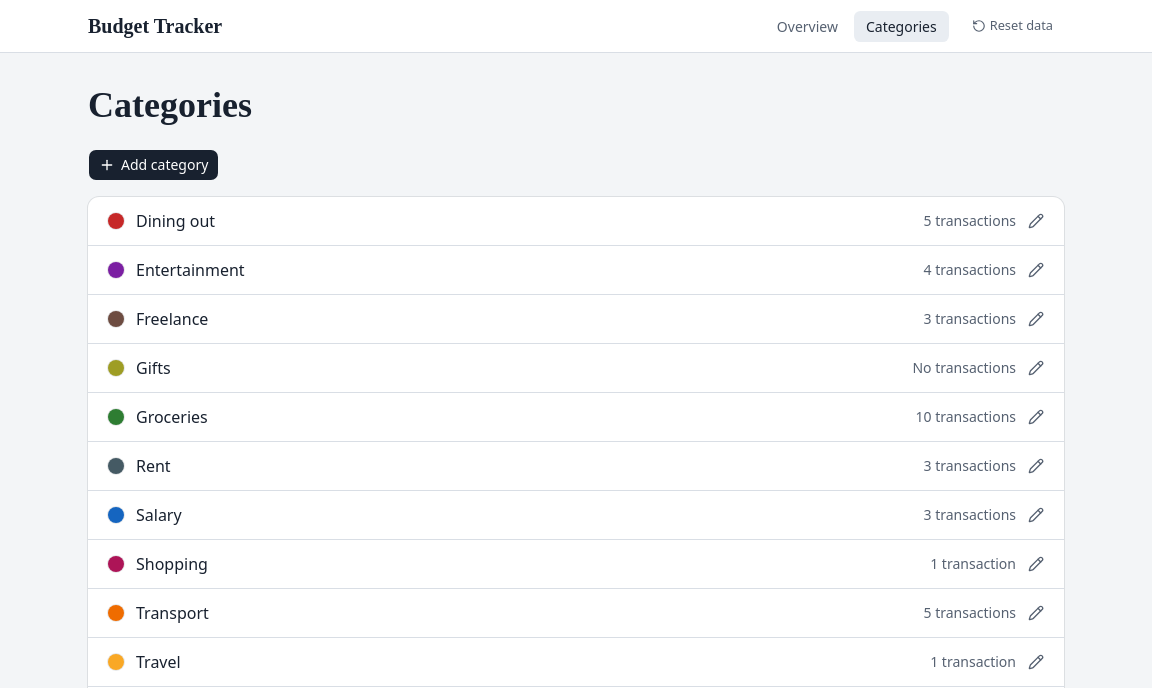
categories page › deletes a category without transactions after confirmation
The image size is (1152, 688).
Click the button with aria-label "Edit category: Gifts, No transactions".
click(153, 368)  # box x1=88 y1=344 x2=1064 y2=392
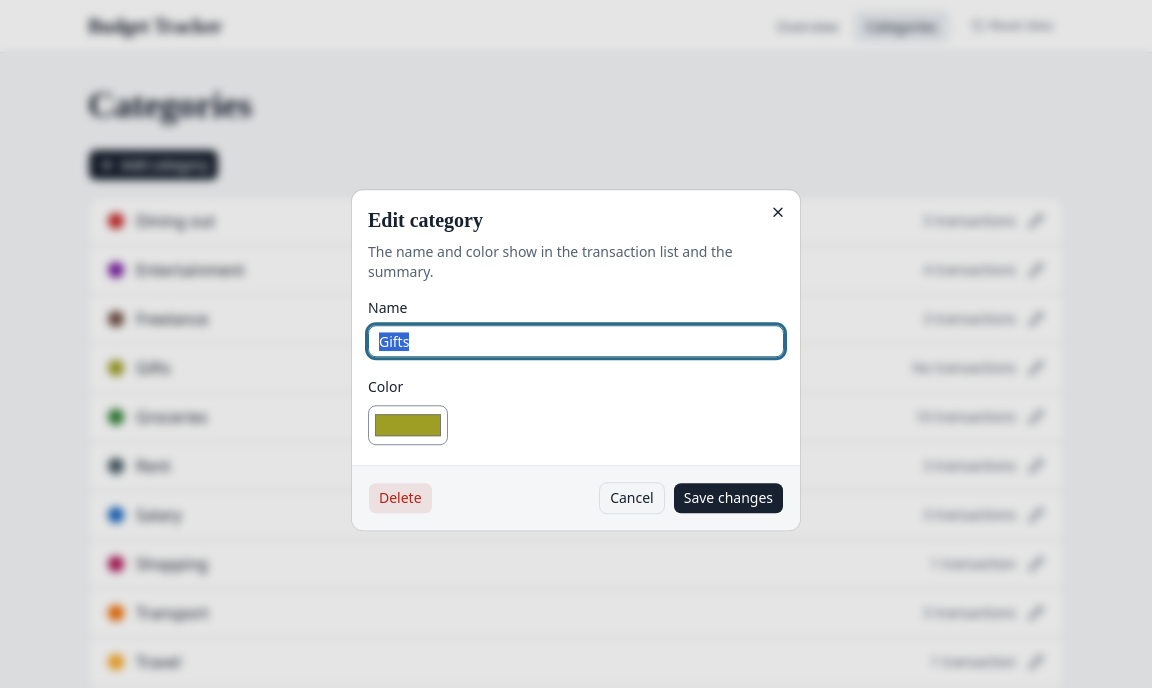
Click the button "Delete".
click(400, 498)  # box x1=368 y1=482 x2=433 y2=514
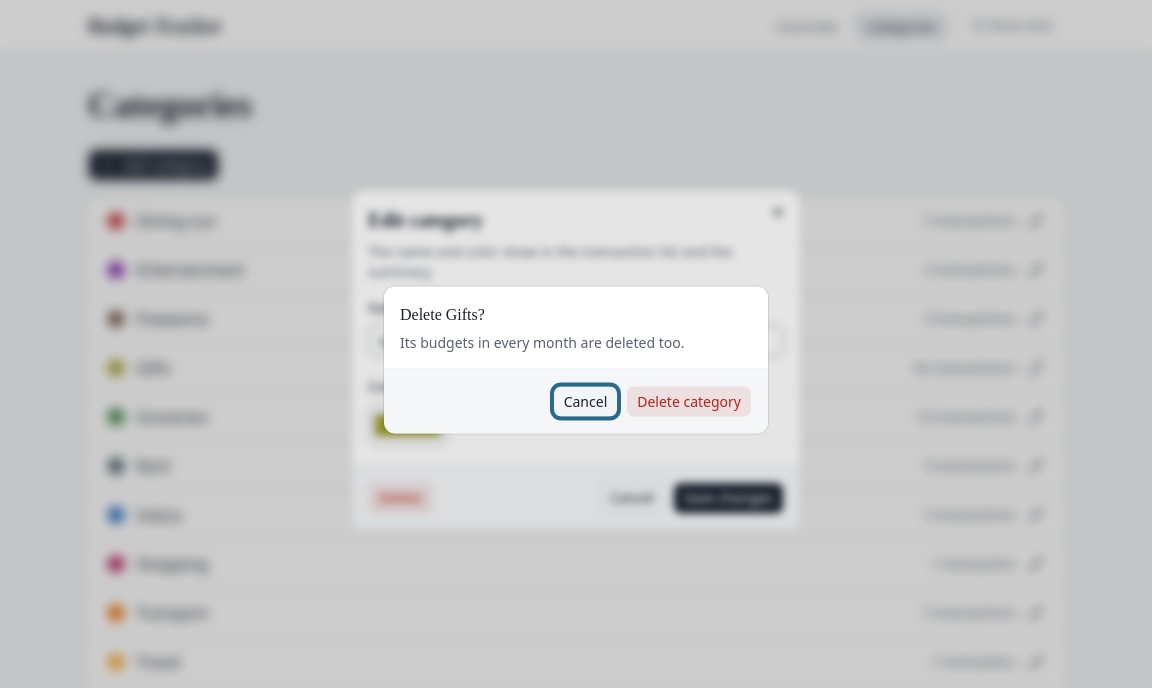
Click the button "Delete category".
click(689, 402)  # box x1=626 y1=386 x2=752 y2=418
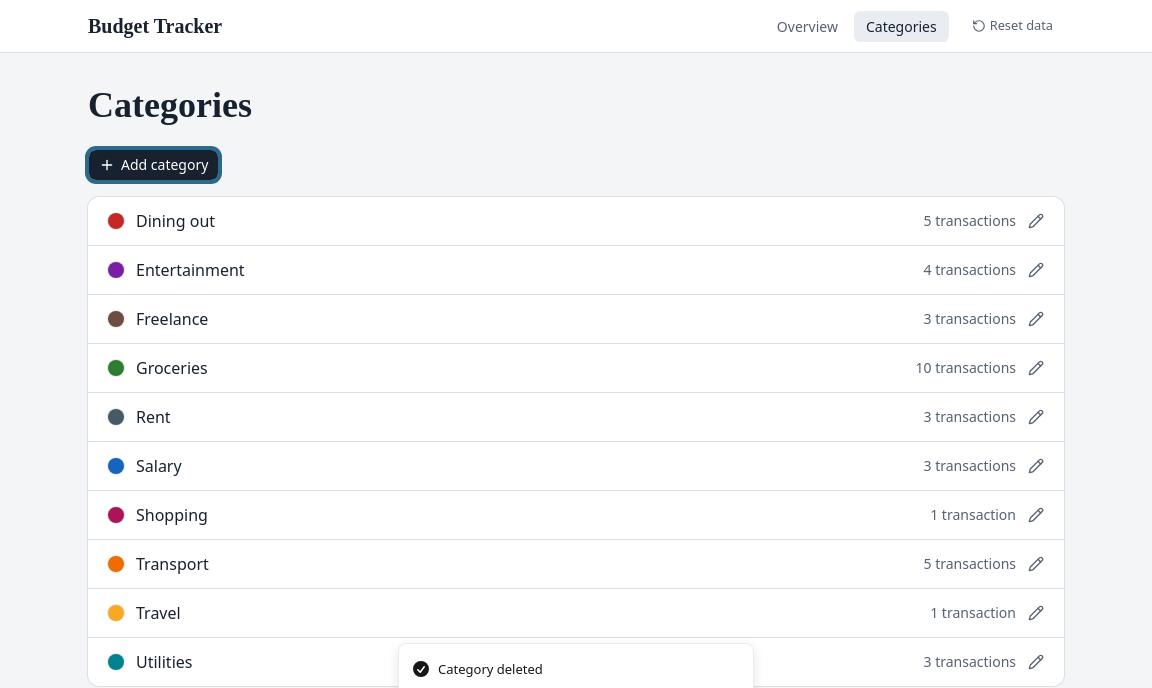
Expected: the text "Category deleted" is shown, x1=438 y1=660 x2=543 y2=679
